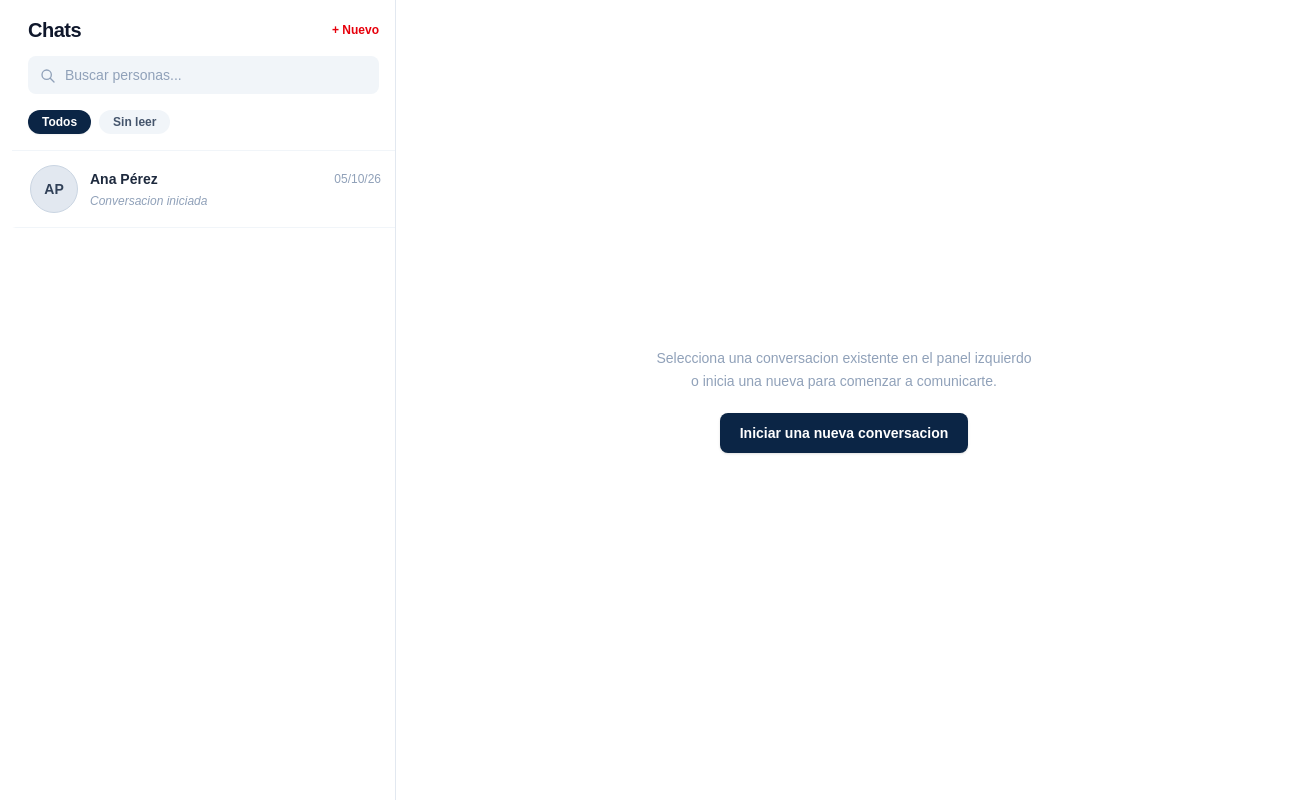
Test: Estados del chat › conserva el borrador tras fallar el envío y lo limpia solo cuando se envía correctamente
The image size is (1292, 800).
Click the heading "Ana Pérez". click: [124, 179]
box: [90,169,158,189]
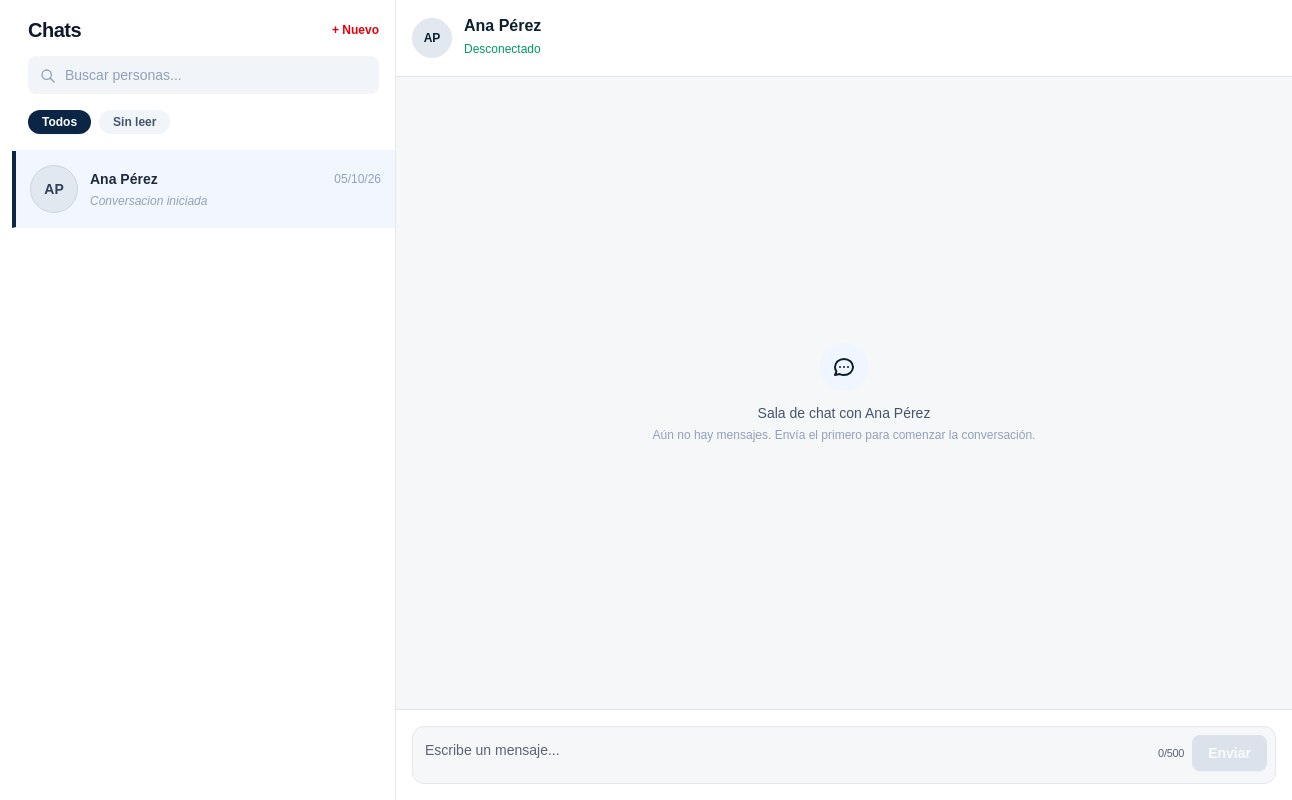
Now the text "Aún no hay mensajes" is shown, box [653,428,1036,442]
Type "Hola" into the text box with test id "message-textarea". click: [784, 755]
box: [421,735,1148,775]
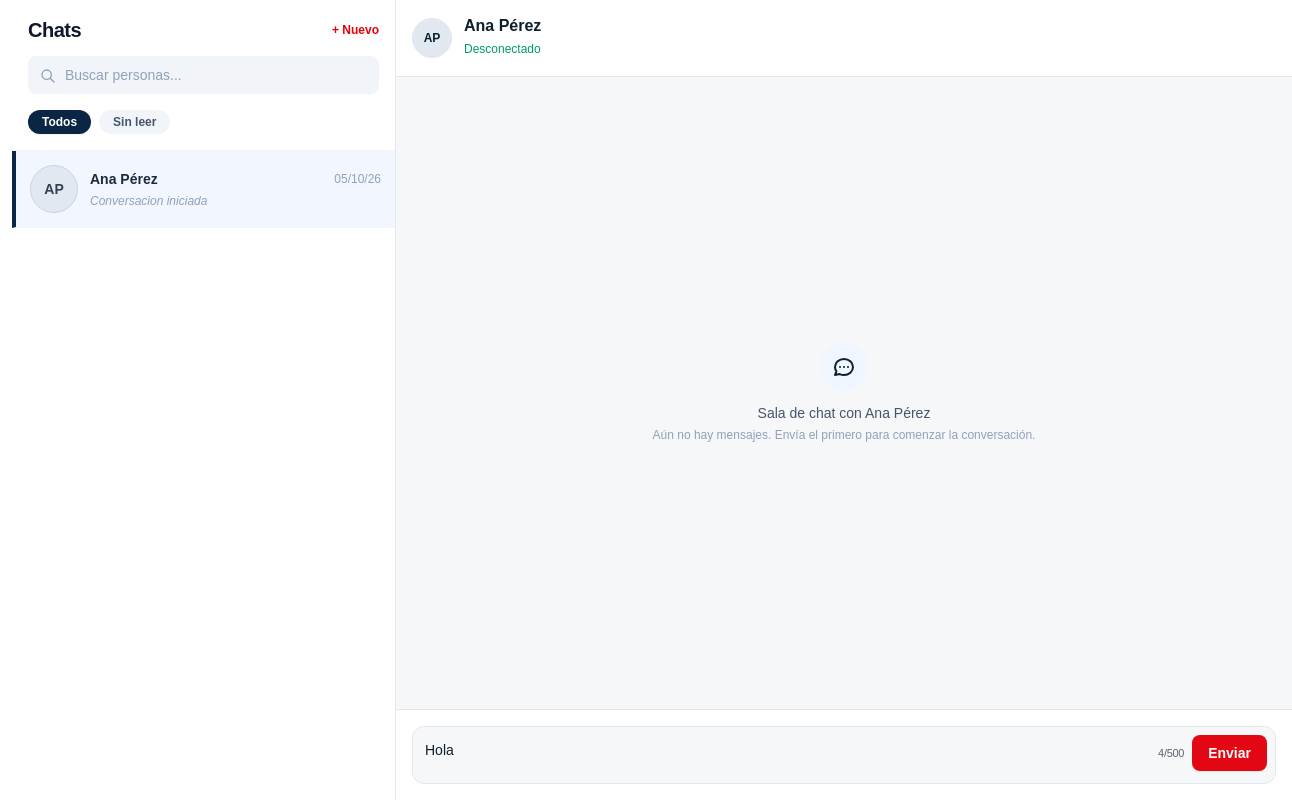
Click the button with aria-label "Enviar mensaje". click: [1230, 753]
box: [1192,735,1267,771]
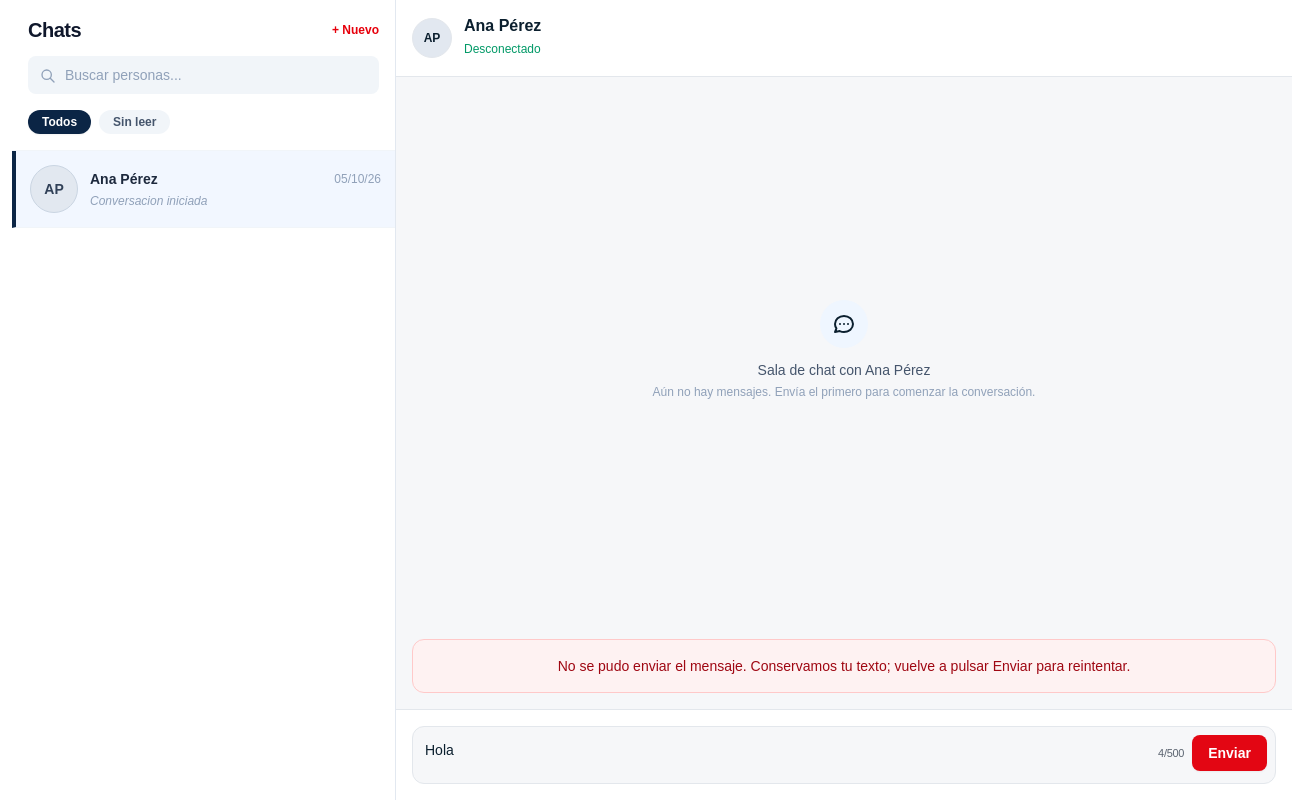
Now the message shows "No se pudo enviar", box [558,658,1130,674]
Click the button with aria-label "Enviar mensaje". click: [1230, 753]
box: [1192,735,1267,771]
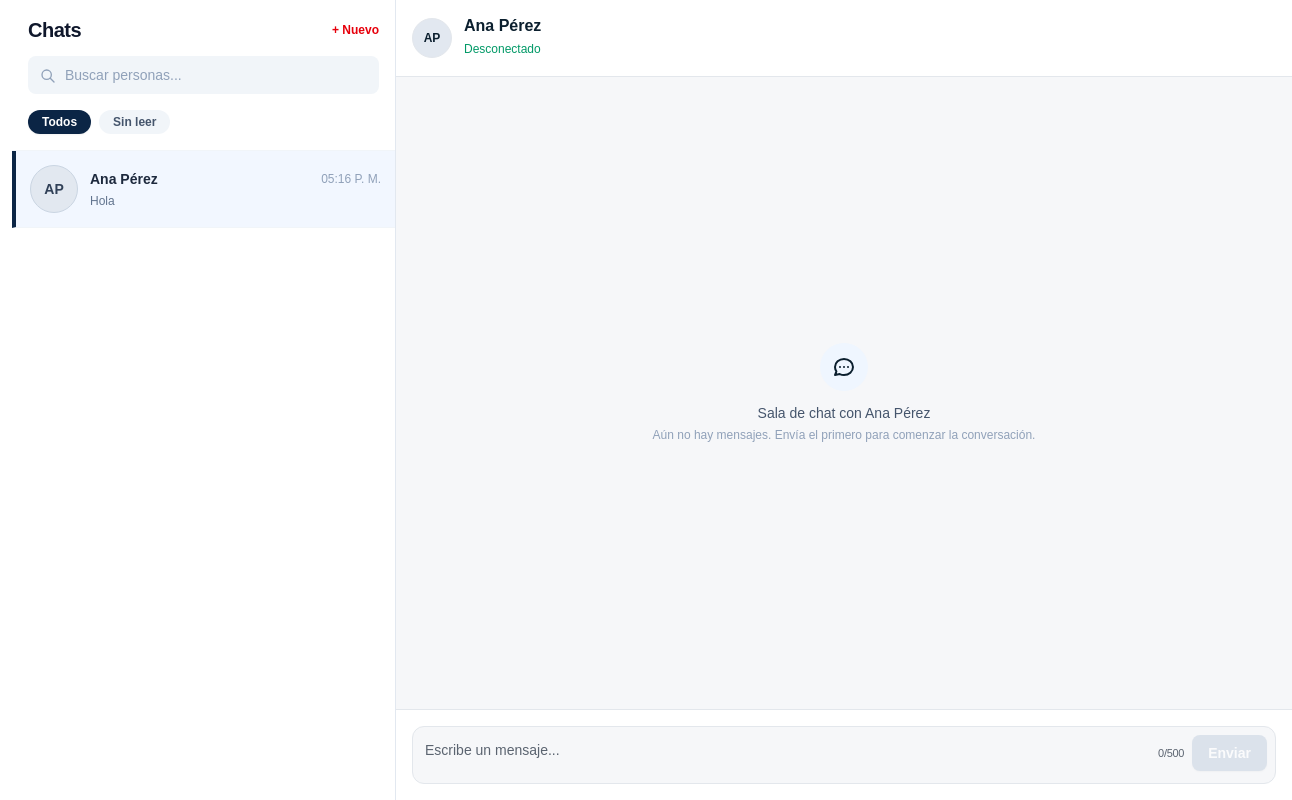
Now the text box with test id "message-textarea" is empty, box [421,735,1148,775]
Now the message "No se pudo enviar el mensaje. Conservamos tu texto; vuelve a pulsar Enviar para" is gone
